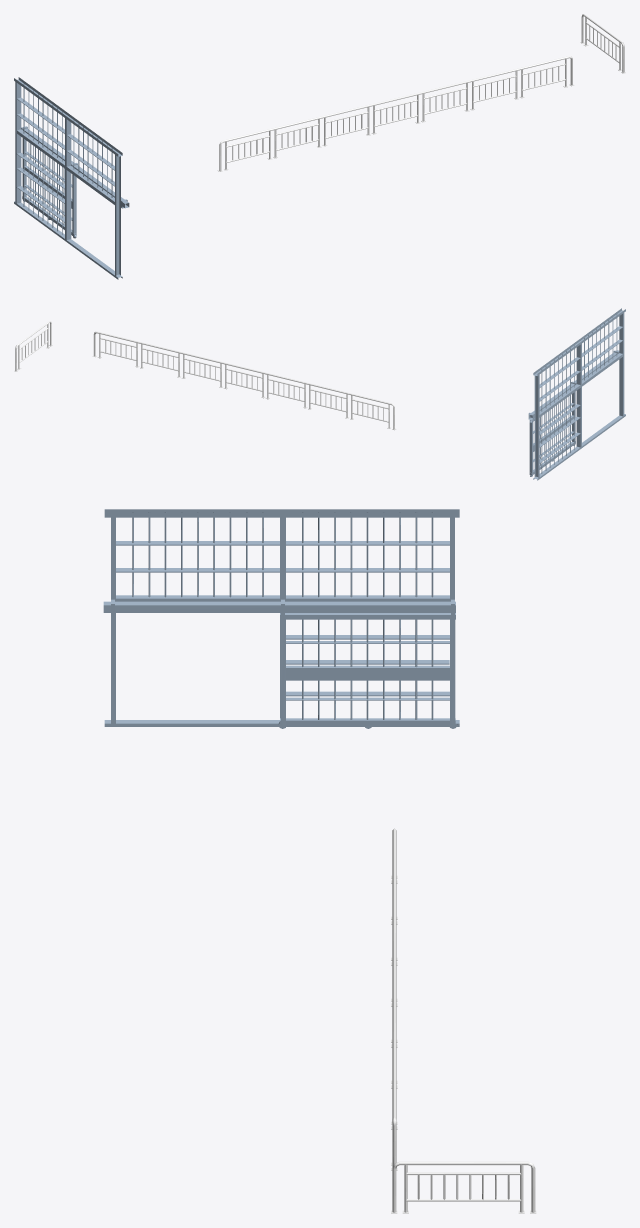
Rendered from SM_H_Building_Tide_Canteen_04E_ATLAS.fbx.
The picture shows the model from 3 angles, top to bottom: view 1: azimuth 30°, elevation 25°; view 2: azimuth 150°, elevation 25°; view 3: azimuth 270°, elevation 25°; orthographic projection. The views are drawn at different scales.
Parts seen in each view (by area): view 1: SM_H_Building_Tide_Canteen_04E_ATLAS; view 2: SM_H_Building_Tide_Canteen_04E_ATLAS; view 3: SM_H_Building_Tide_Canteen_04E_ATLAS.
Boxes of the visible parts, x1,y1,x2,y2 form: SM_H_Building_Tide_Canteen_04E_ATLAS: [14, 14, 625, 279]; SM_H_Building_Tide_Canteen_04E_ATLAS: [14, 308, 625, 480]; SM_H_Building_Tide_Canteen_04E_ATLAS: [103, 509, 536, 1213].
Bounding box in the file's own units: 2230 × 829 × 452.
